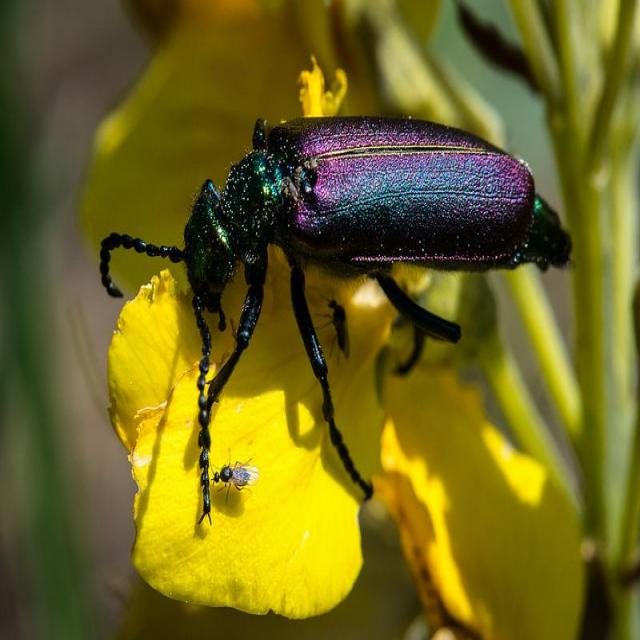BlisterBeetle-Adult-: (97, 109, 580, 533)
